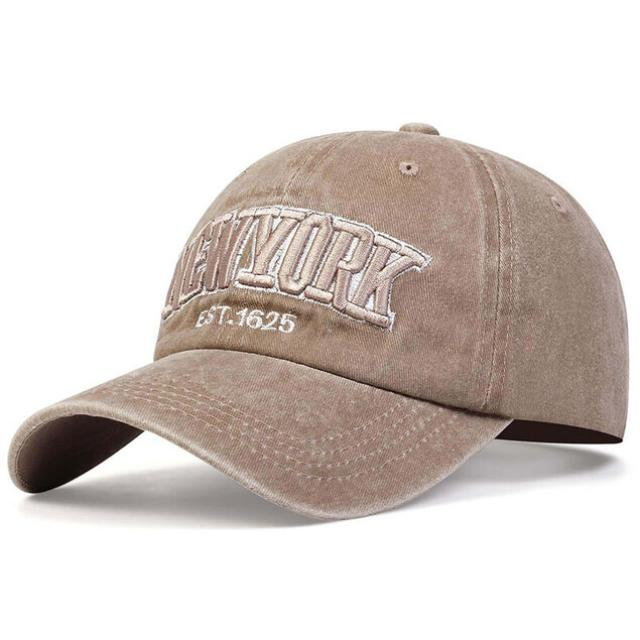Nonhelmet: (6, 119, 630, 522)
